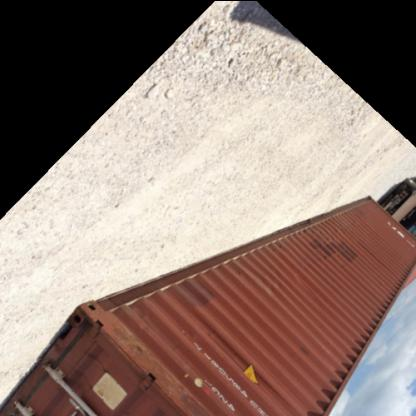Damage: (94, 316, 217, 415)
